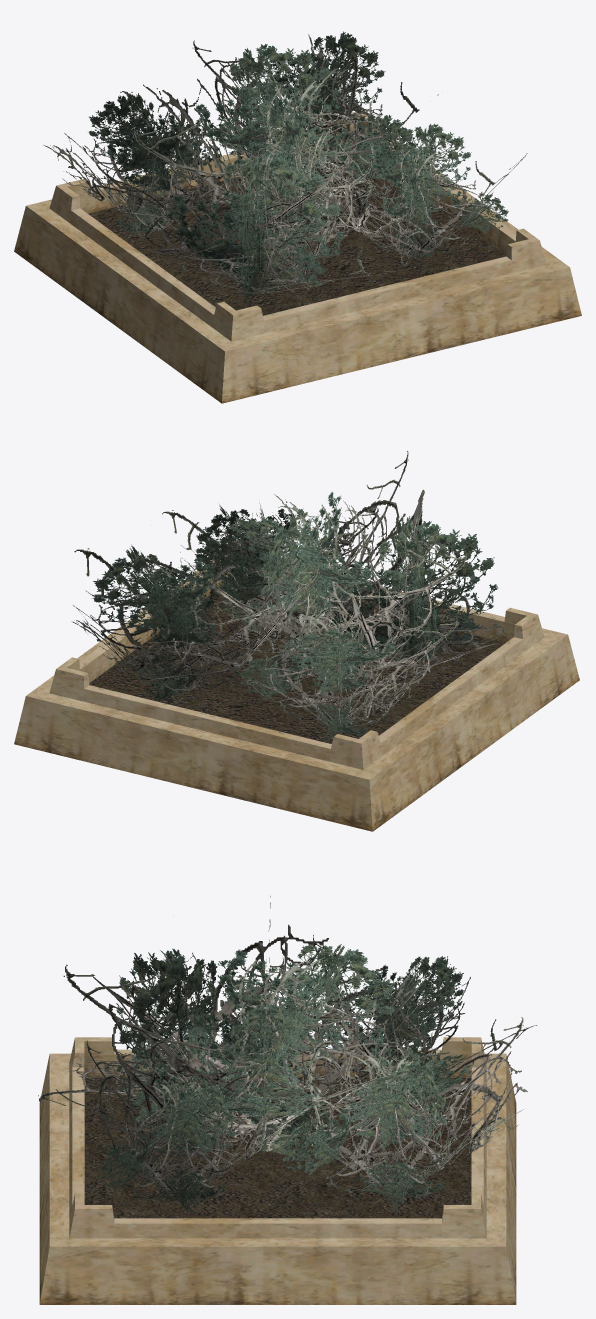
File: thm_tato_orchard_s01_l0.fbx
3 views of the same model, one above another, from view 1: azimuth 30°, elevation 25°; view 2: azimuth 150°, elevation 25°; view 3: azimuth 270°, elevation 25° (orthographic). The views are drawn at different scales.
Parts seen in each view (by area): view 1: mesh_node; view 2: mesh_node; view 3: mesh_node.
Boxes of the visible parts, x1=… form: mesh_node: x1=14, y1=31, x2=581, y2=403; mesh_node: x1=14, y1=451, x2=579, y2=831; mesh_node: x1=38, y1=896, x2=536, y2=1304.
Size of the model in its own units: 9.52 by 5.43 by 9.53.
1 material, 1 textured.
